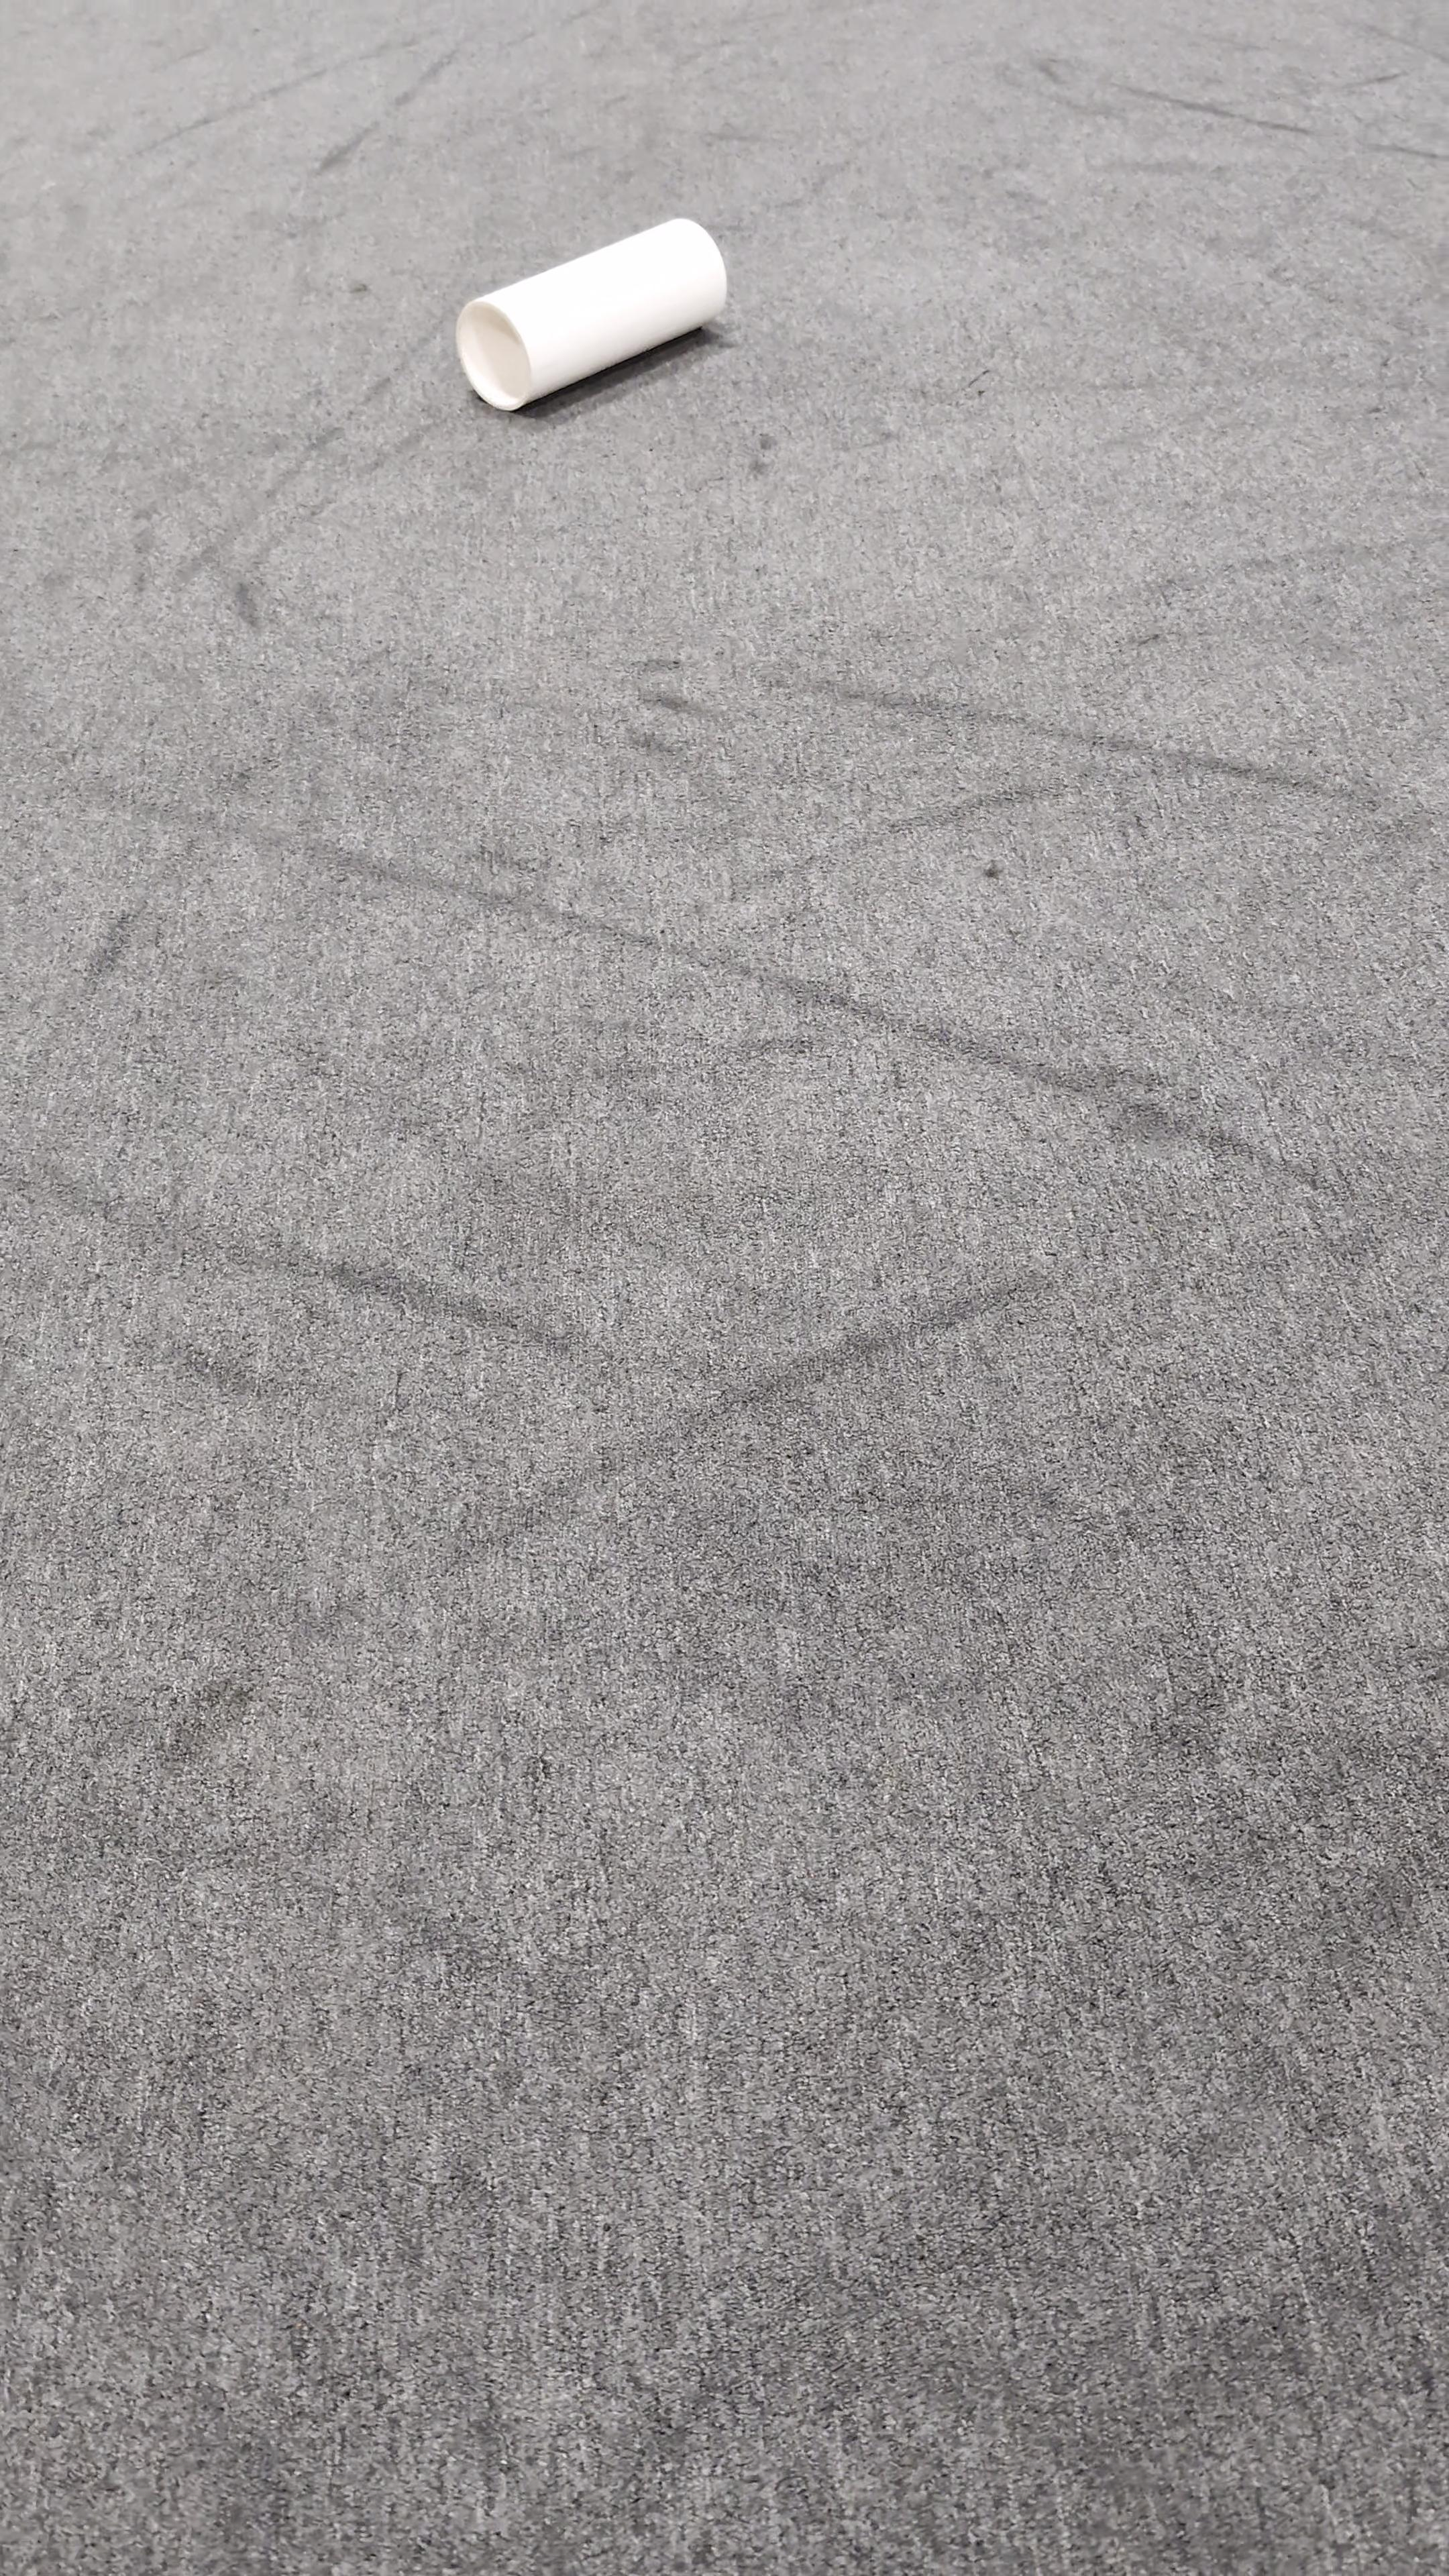coral: (455, 212, 731, 412)
